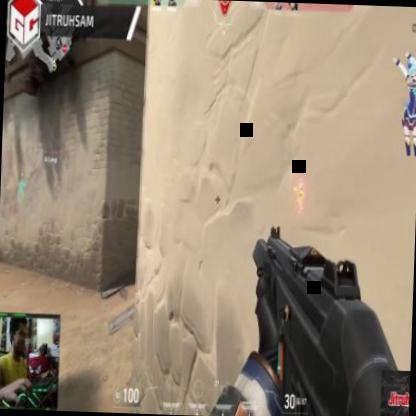enemy: (291, 178, 305, 214)
enemy_head: (299, 179, 302, 186)
